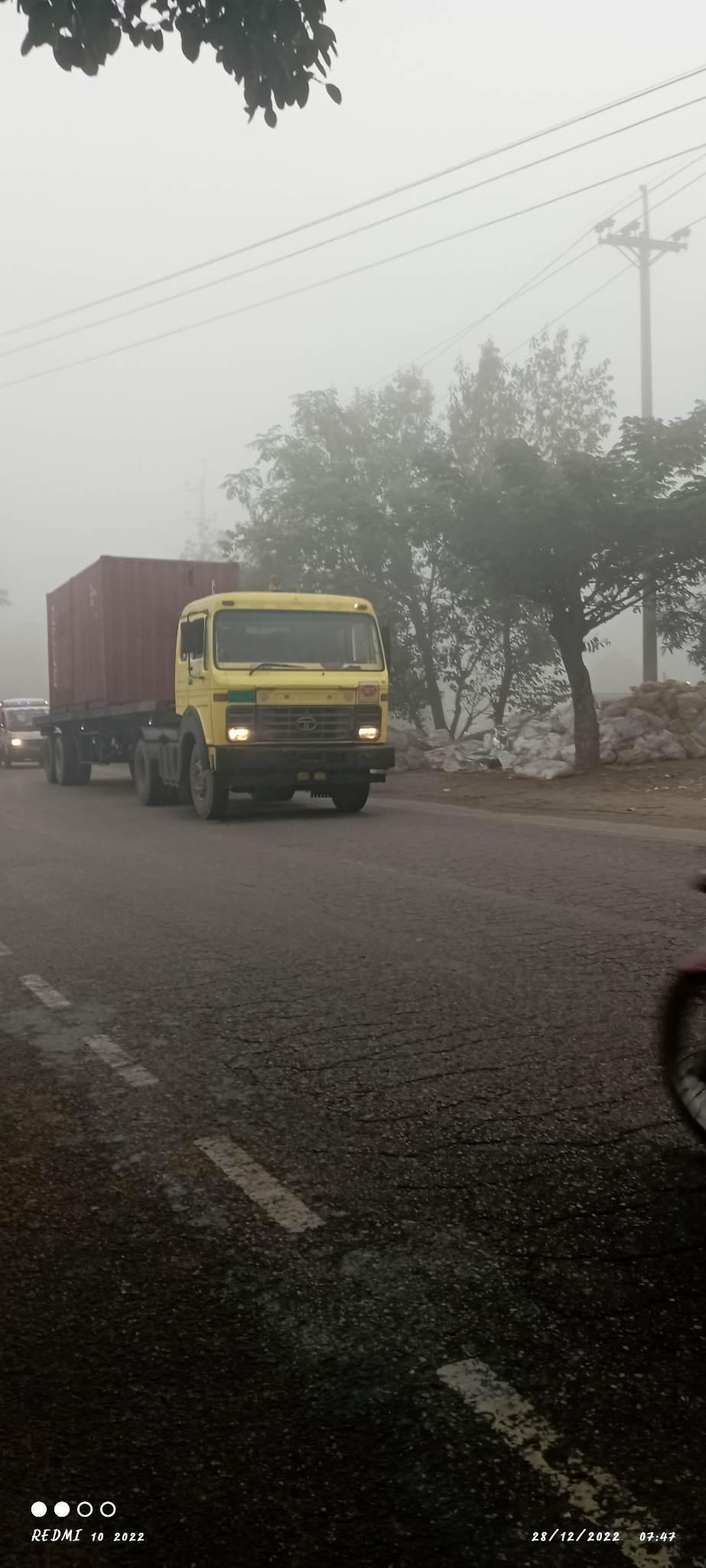Truck: (35, 528, 423, 842)
